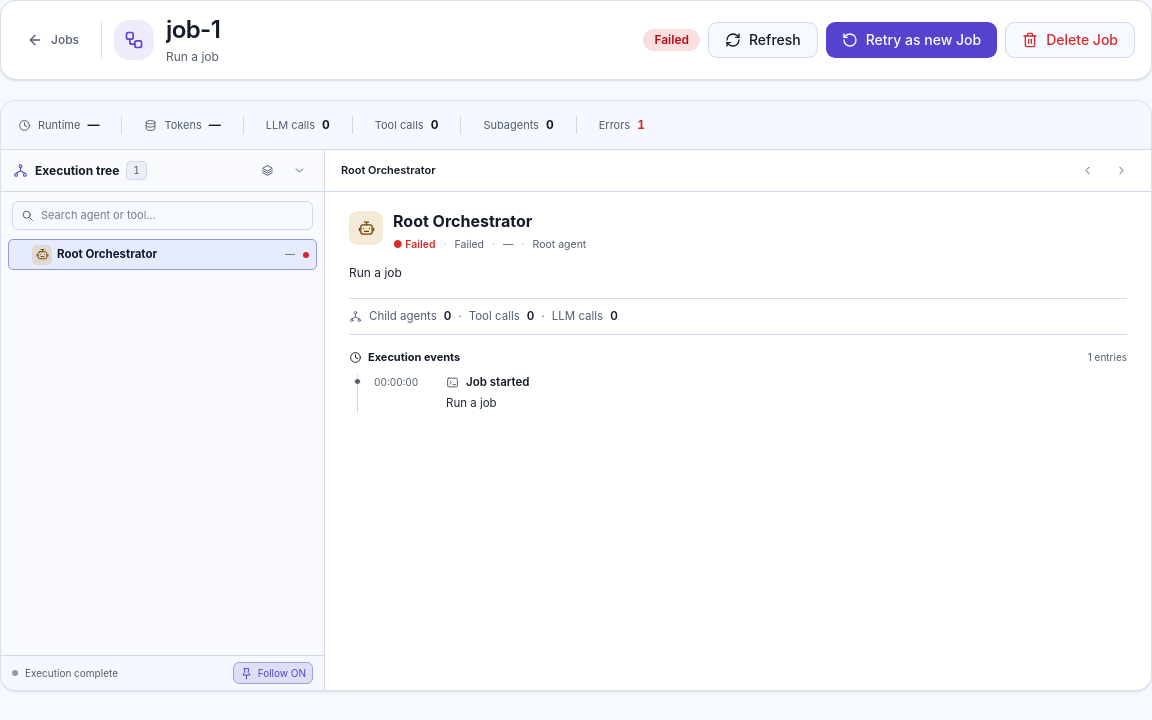
Test: shows deletion conflicts and keeps the Job detail available
This screenshot has width=1152, height=720.
Click the button "Delete Job" at [1070, 40], box [1005,22,1135,58]
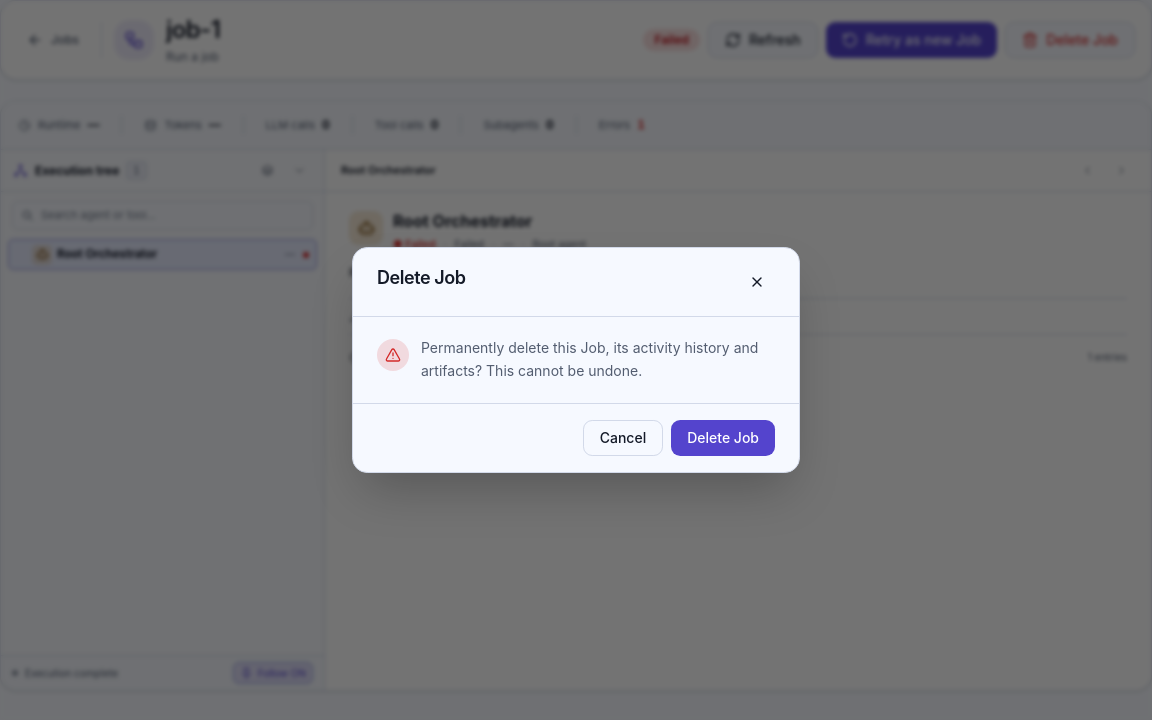
Click the button "Delete Job" at [723, 438], box [671,420,775,456]
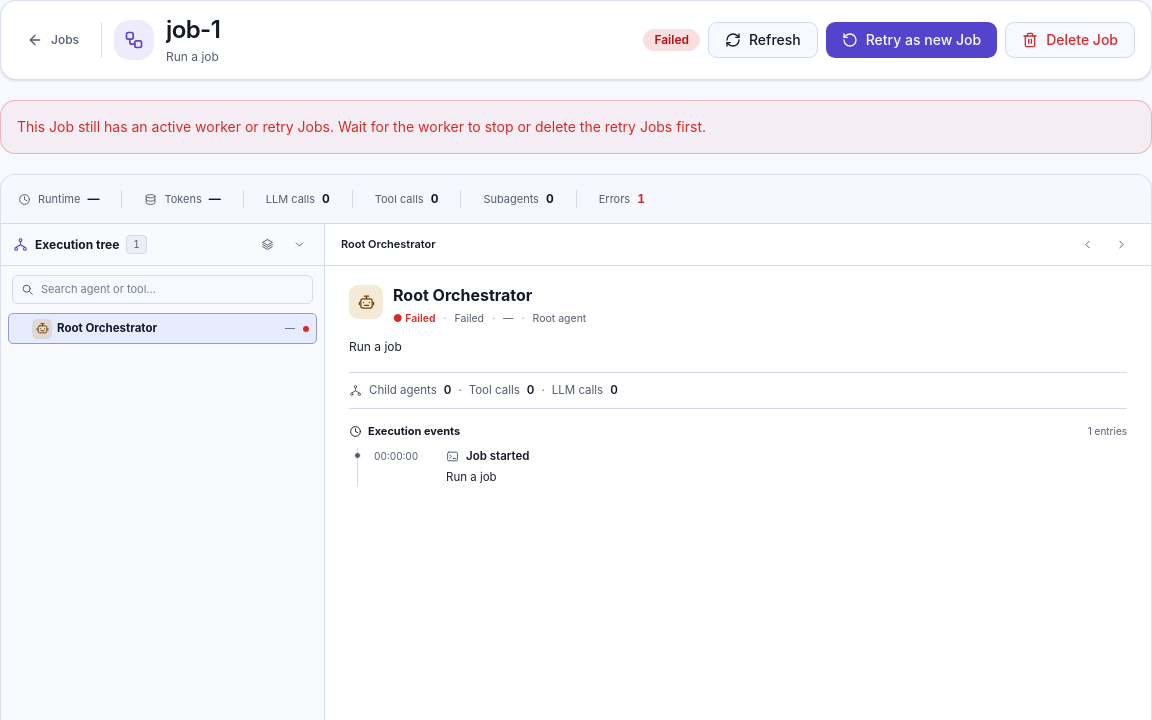
expect the text "Run a job" is shown: met, box [166,49,220,65]
expect the message shows "This Job still has an active worker or retry Jobs. Wait for the worker to stop or delete the retry Jobs first.": met, box [17,118,706,135]
